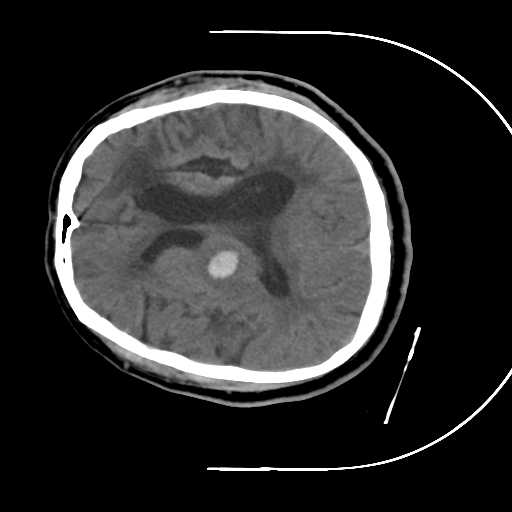a: (188, 235, 257, 305)
